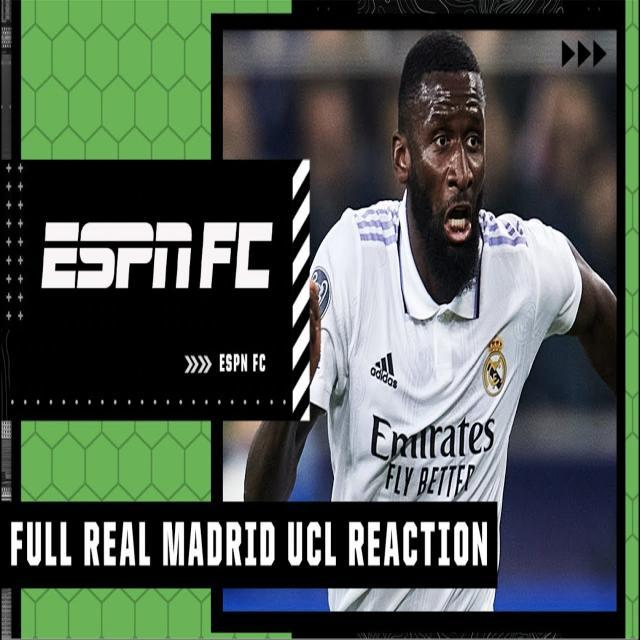Adidas: (371, 350, 398, 390)
Emirates: (370, 412, 495, 461)
